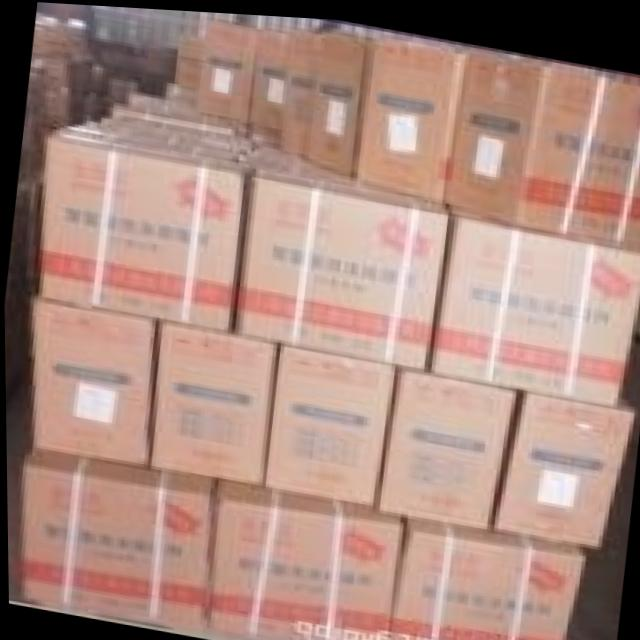box: (229, 159, 448, 367), (37, 122, 245, 330), (429, 211, 640, 399), (445, 46, 640, 242), (17, 449, 213, 630), (204, 480, 402, 640), (388, 512, 584, 640), (492, 386, 637, 545), (377, 365, 515, 524), (27, 297, 154, 466), (145, 319, 275, 484), (260, 342, 393, 501), (352, 32, 461, 197), (304, 30, 368, 175), (196, 14, 253, 116), (276, 28, 318, 153), (246, 26, 285, 125)
